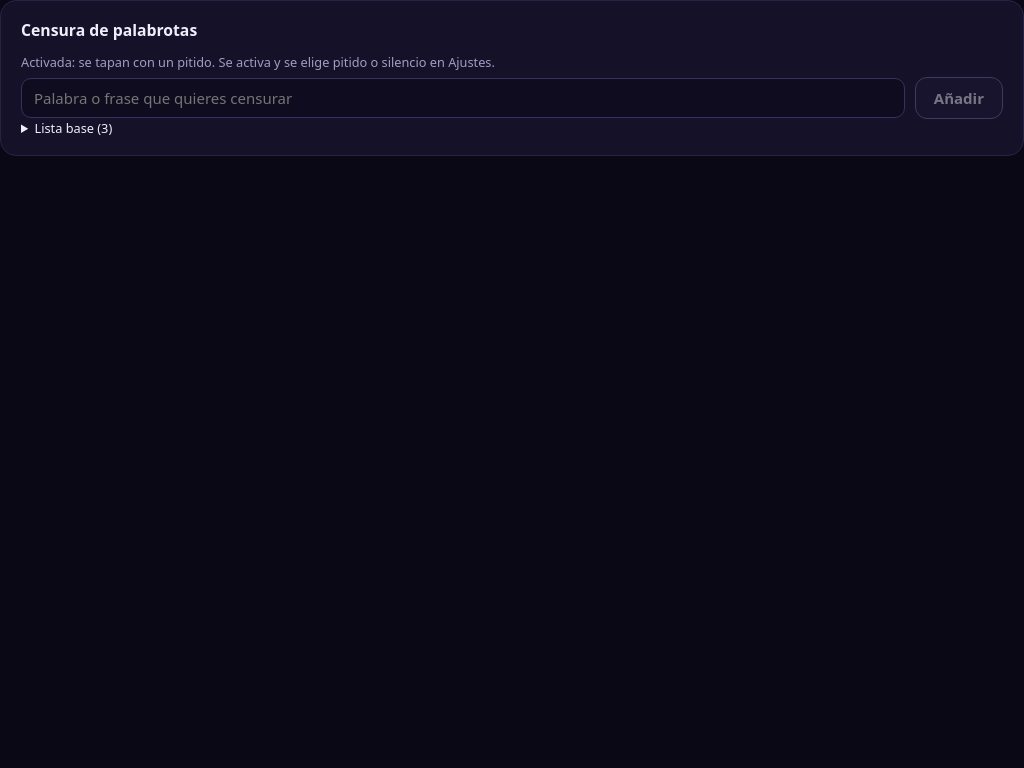
Test: censura de palabrotas › enseña la lista, añade y quita (quitar de la base vale solo para ti)
Expected: the text "Activada: se tapan con un pitido" is shown, [21,53,215,71]
Expected: the heading "Lista base (3)" is shown, [34,119,112,137]
Type "caca" into the field with placeholder "Palabra o frase que quieres censurar" at (463, 98), box [21,78,905,118]
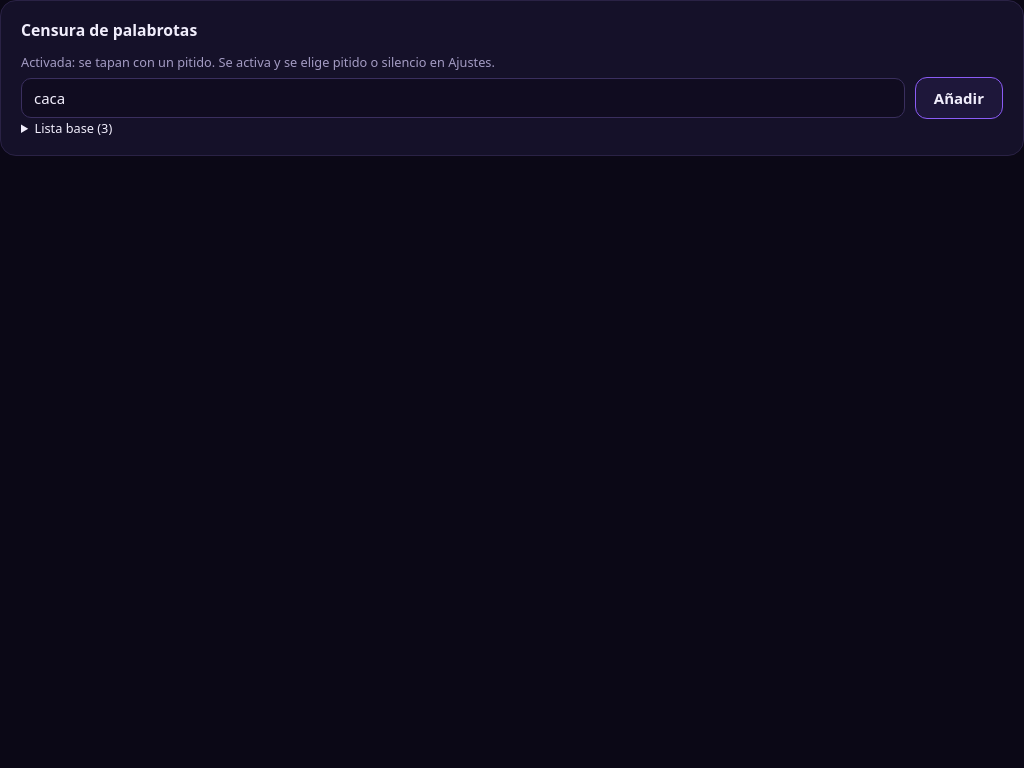
Click the button "Añadir" at (959, 98), box [915,77,1003,119]
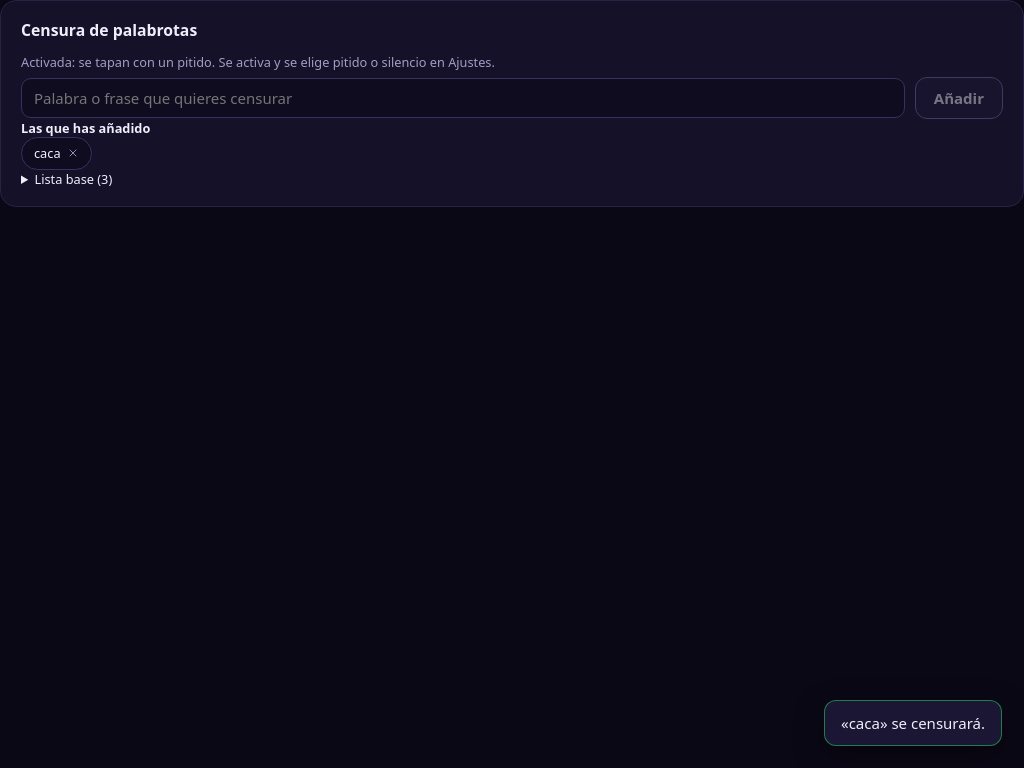
Click the button named "Dejar de censurar caca" at (72, 154), box [66,145,78,163]
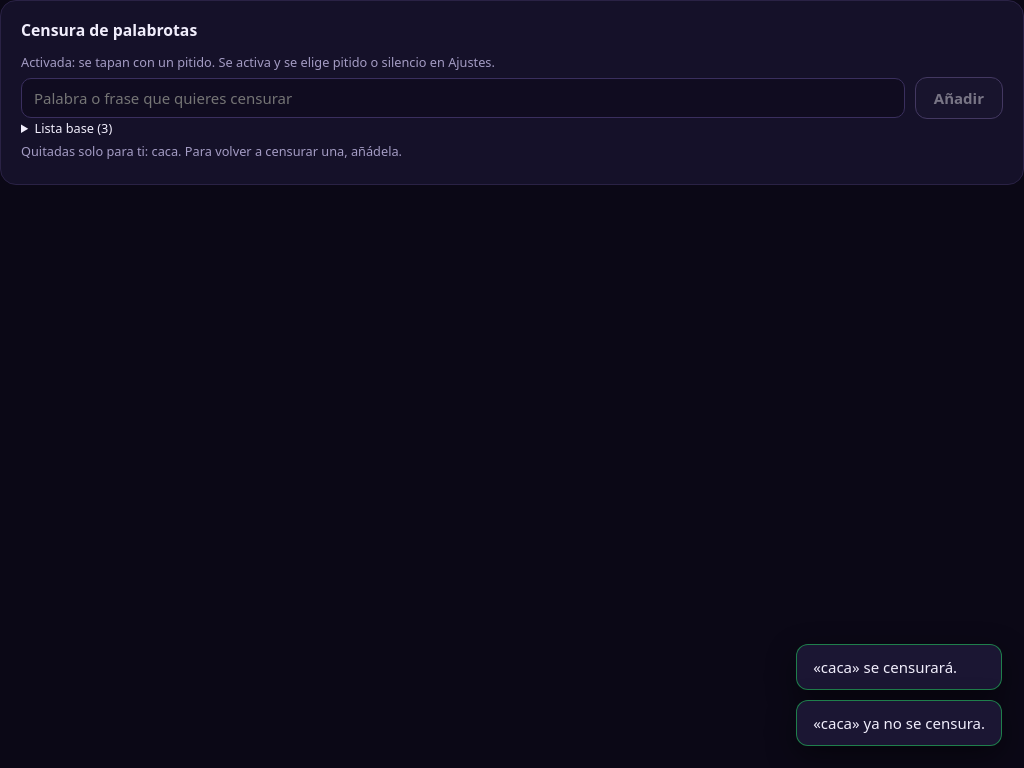
Now the text "Quitadas solo para ti: caca" is shown, box [21,142,402,160]
